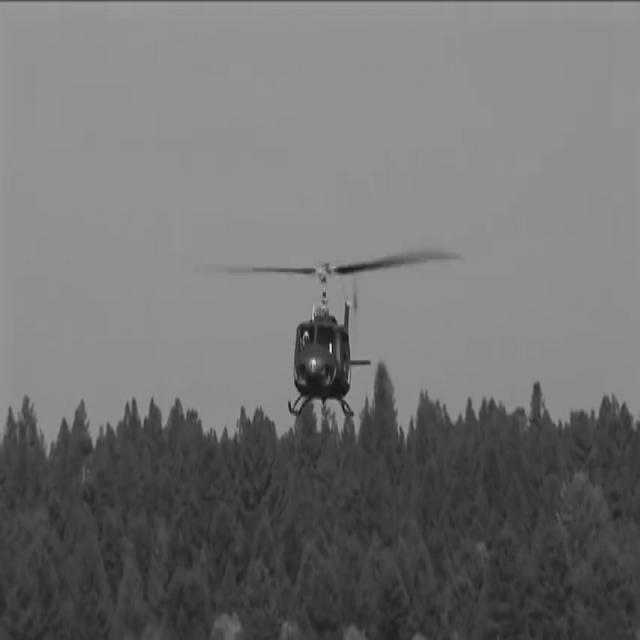helikopter: (238, 242, 396, 430)
